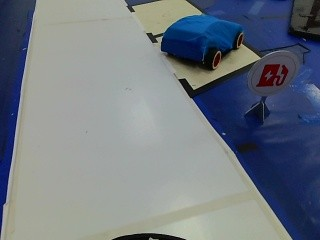battery: (251, 53, 294, 97)
car: (155, 9, 250, 70)
